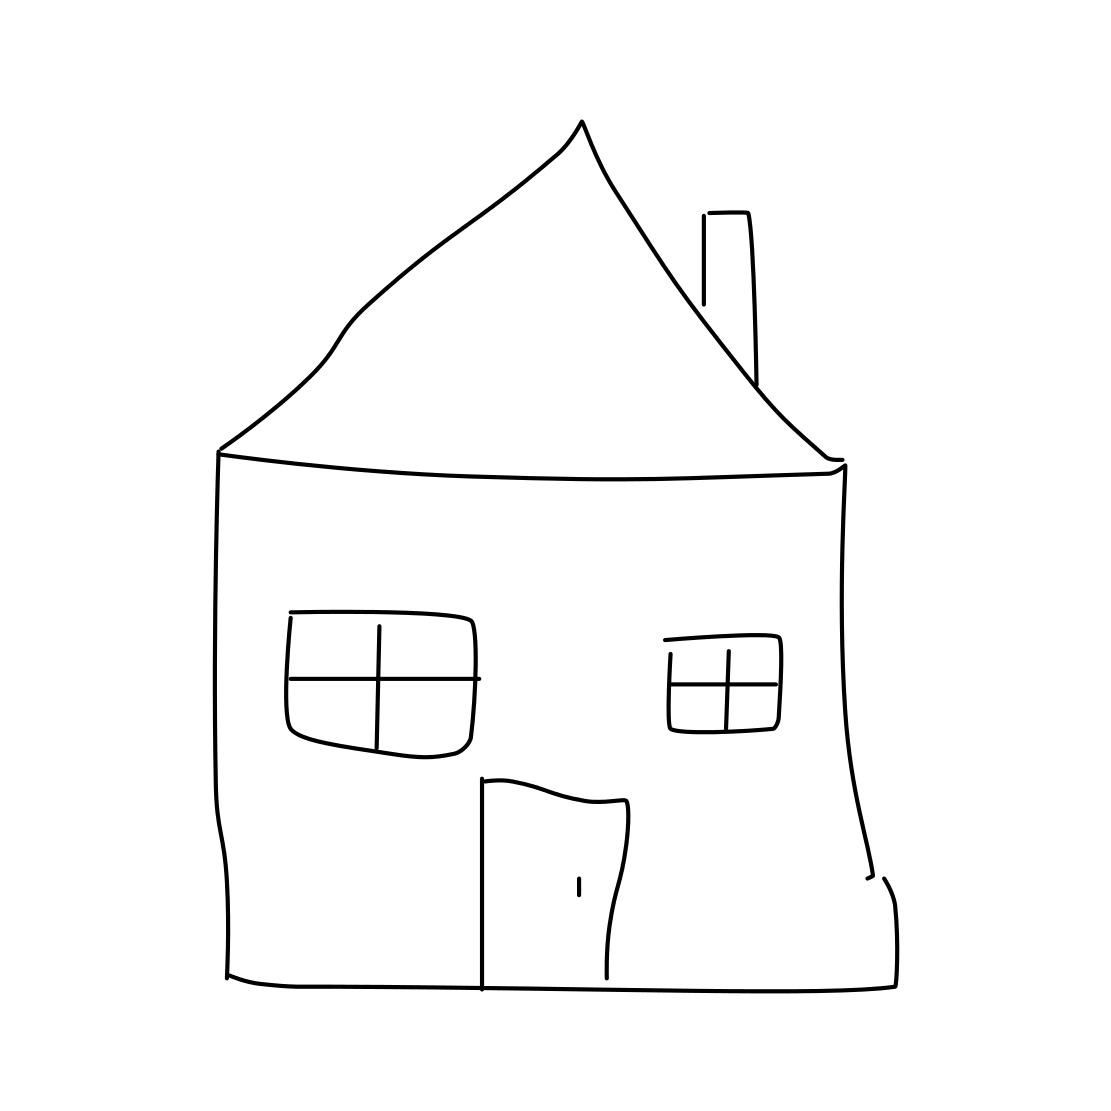House: (155, 115, 958, 1011)
